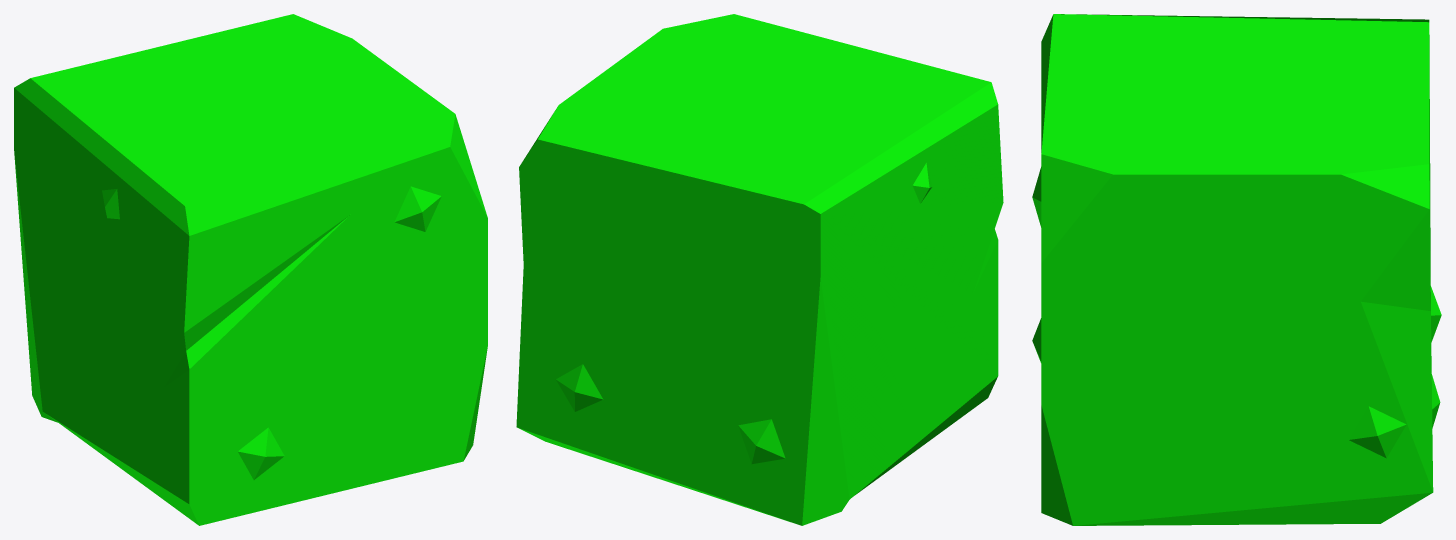
File: SM_Wall_Decor_Rim_Metal.fbx
The picture shows the model from 3 angles, left to right: view 1: azimuth 30°, elevation 25°; view 2: azimuth 150°, elevation 25°; view 3: azimuth 270°, elevation 25°; orthographic projection. The views are drawn at different scales.
Visible parts, largest first — view 1: wall-decor-rim-metal; view 2: wall-decor-rim-metal; view 3: wall-decor-rim-metal.
Boxes of the visible parts, x1,y1,x2,y2 form: wall-decor-rim-metal: (14, 14, 487, 525); wall-decor-rim-metal: (516, 14, 1003, 525); wall-decor-rim-metal: (1032, 14, 1441, 525).
Size of the model in its own units: 0.3305 by 0.32 by 0.3377.
